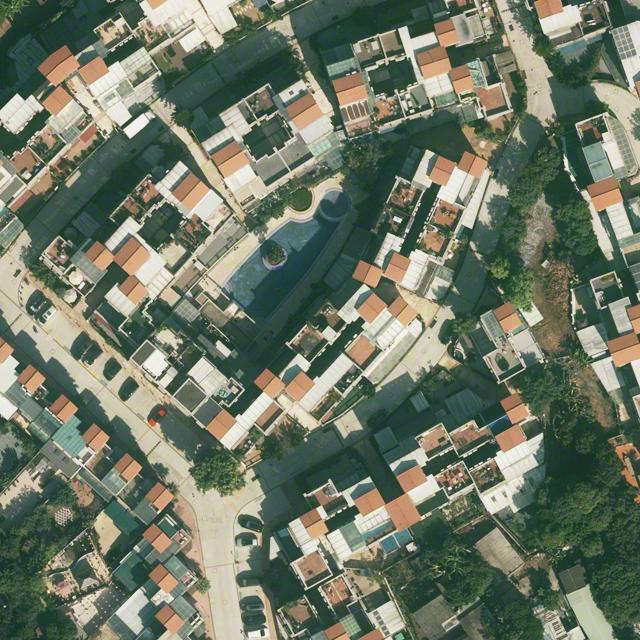panel: (612, 25, 638, 60)
